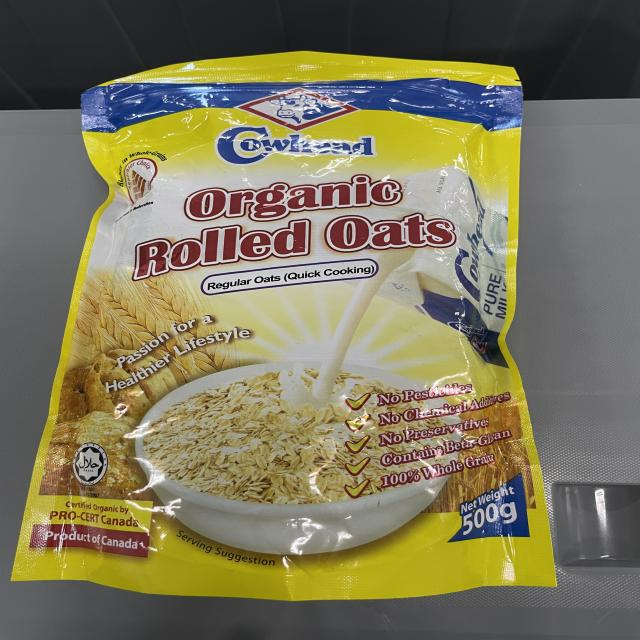object_name: (30, 76, 519, 585)
